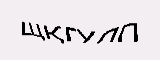Г: (64, 23, 76, 42)
П: (116, 21, 141, 45), (98, 24, 118, 44)
У: (77, 26, 94, 46)
Щ: (19, 17, 47, 40)
Қ: (43, 21, 66, 44)
